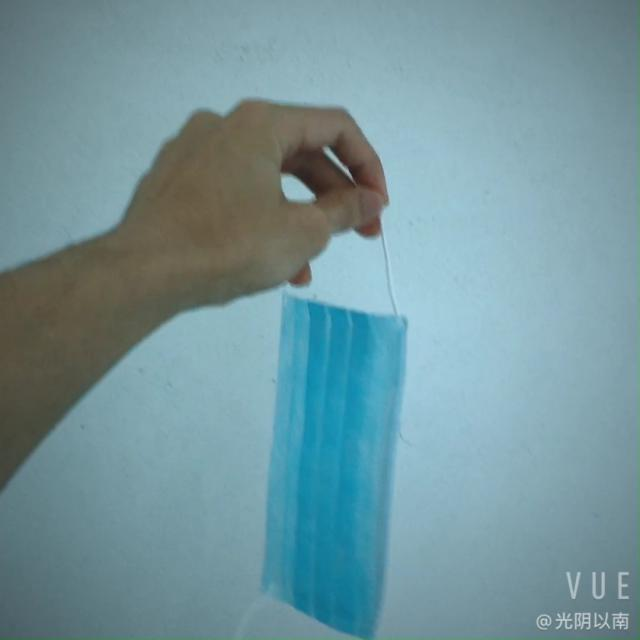face mask: (246, 285, 433, 621)
